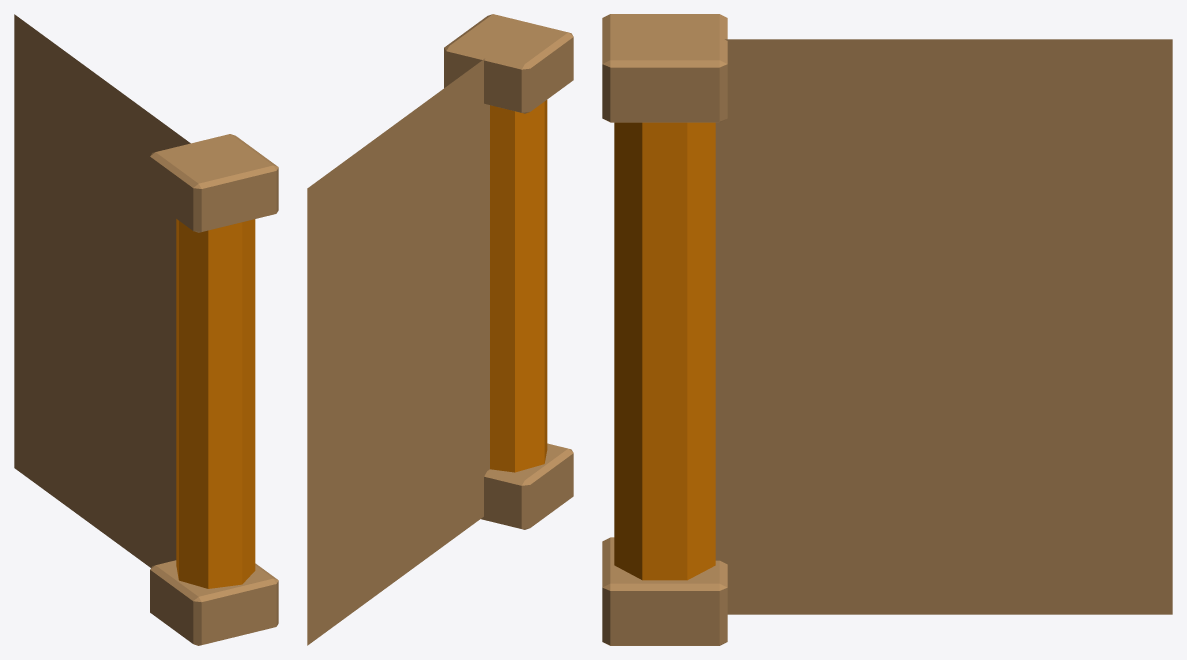
The model's file is Temple walls.fbx.
3 renders of one model, left to right at view 1: azimuth 30°, elevation 25°; view 2: azimuth 150°, elevation 25°; view 3: azimuth 270°, elevation 25°, orthographic. The views are drawn at different scales.
Parts seen in each view (by area): view 1: Plane, Cylinder, Cube.001, Cube; view 2: Plane, Cylinder, Cube.001, Cube; view 3: Plane, Cylinder, Cube.001, Cube.
Part boxes in pixels (left/top/right/bottom): Plane: left=14, top=14, right=190, bottom=567; Cylinder: left=176, top=219, right=255, bottom=588; Cube.001: left=150, top=134, right=278, bottom=232; Cube: left=150, top=560, right=278, bottom=645; Plane: left=307, top=58, right=489, bottom=645; Cylinder: left=490, top=100, right=547, bottom=472; Cube.001: left=444, top=14, right=573, bottom=113; Cube: left=481, top=443, right=573, bottom=529; Plane: left=715, top=39, right=1172, bottom=614; Cylinder: left=614, top=122, right=715, bottom=580; Cube.001: left=602, top=14, right=727, bottom=122; Cube: left=602, top=537, right=727, bottom=645.
Size of the model in its own units: 241 by 1244 by 1098.
